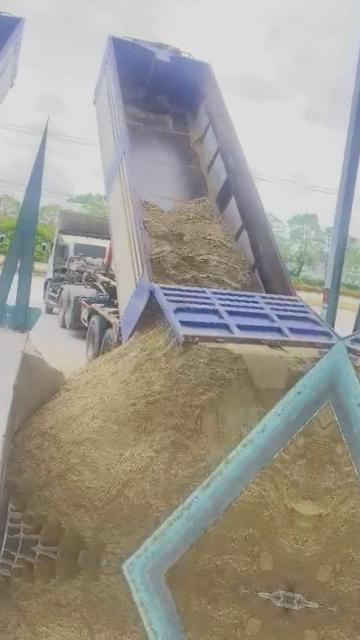sand: (7, 298, 282, 565), (168, 419, 325, 591), (144, 199, 254, 288), (227, 344, 316, 398), (14, 342, 64, 432)
